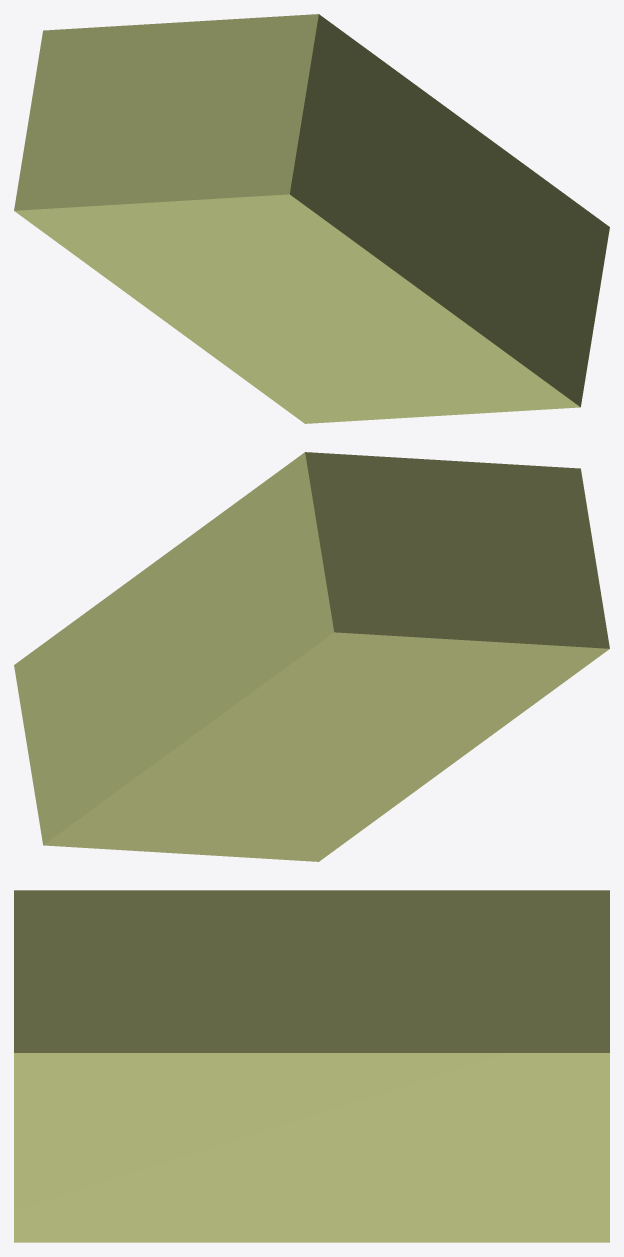
The picture shows the model from 3 angles, top to bottom: view 1: azimuth 30°, elevation 25°; view 2: azimuth 150°, elevation 25°; view 3: azimuth 270°, elevation 25°; orthographic projection. The views are drawn at different scales.
Visible parts, largest first — view 1: 0_1_2_0_3_3_1_3_1_2; view 2: 0_1_2_0_3_3_1_3_1_2; view 3: 0_1_2_0_3_3_1_3_1_2.
Part boxes in pixels (x1,y1,x2,y2): 0_1_2_0_3_3_1_3_1_2: [14, 14, 609, 423]; 0_1_2_0_3_3_1_3_1_2: [14, 452, 609, 861]; 0_1_2_0_3_3_1_3_1_2: [14, 890, 609, 1242].
Bounding box in the file's own units: 5.44 × 3.82 × 9.
